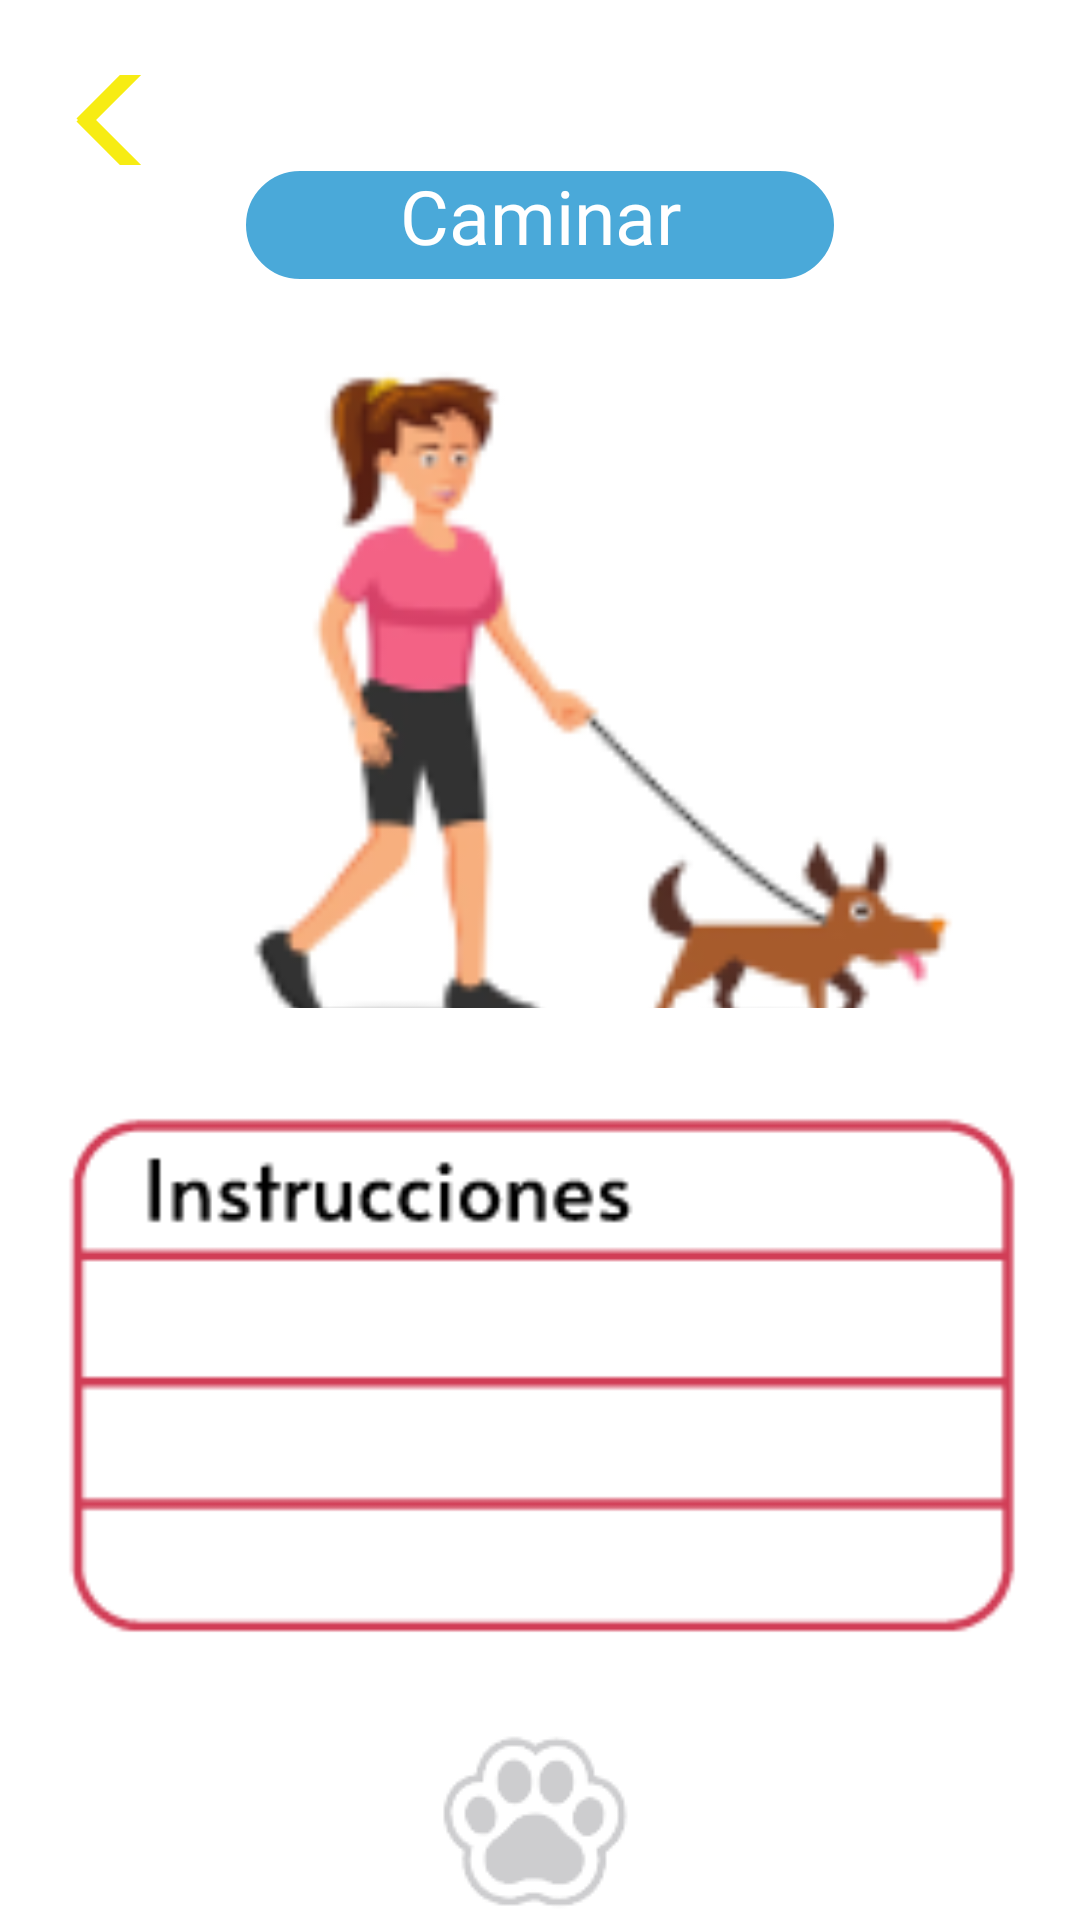

Locate icon controls on the screen. Image size 1080×1920, boxes as (x1, y1, x2, y2).
flecha: (76, 75, 141, 165)
